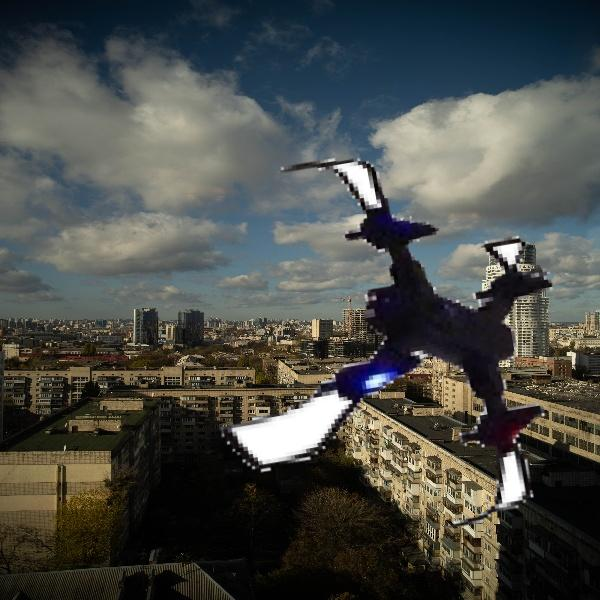drone: (167, 138, 578, 549)
